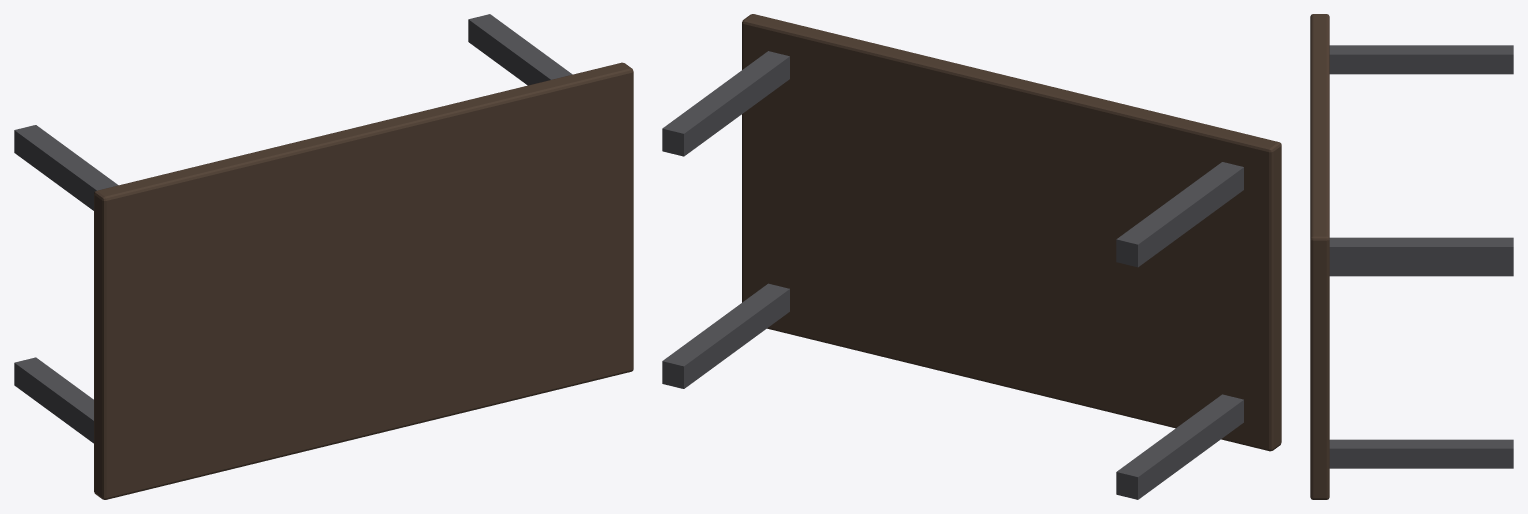
File: lounge_coffee_table.glb
3 renders of one model, left to right at view 1: azimuth 30°, elevation 25°; view 2: azimuth 150°, elevation 25°; view 3: azimuth 270°, elevation 25°, orthographic. The views are drawn at different scales.
Visible parts, largest first — view 1: lounge_table_top, lounge_table_leg.001, lounge_table_leg.003, lounge_table_leg; view 2: lounge_table_top, lounge_table_leg.003, lounge_table_leg.001, lounge_table_leg.002, lounge_table_leg; view 3: lounge_table_top, lounge_table_leg.001, lounge_table_leg.002, lounge_table_leg.003, lounge_table_leg.
Boxes of the visible parts, bbox=[...] form: lounge_table_top: bbox=[94, 62, 633, 499]; lounge_table_leg.001: bbox=[14, 125, 118, 210]; lounge_table_leg.003: bbox=[468, 14, 572, 85]; lounge_table_leg: bbox=[14, 357, 93, 443]; lounge_table_top: bbox=[742, 14, 1281, 451]; lounge_table_leg.003: bbox=[662, 51, 789, 156]; lounge_table_leg.001: bbox=[1116, 162, 1243, 267]; lounge_table_leg.002: bbox=[662, 283, 789, 388]; lounge_table_leg: bbox=[1116, 394, 1243, 499]; lounge_table_top: bbox=[1310, 14, 1329, 499]; lounge_table_leg.001: bbox=[1329, 45, 1513, 74]; lounge_table_leg.002: bbox=[1329, 439, 1513, 468]; lounge_table_leg.003: bbox=[1329, 237, 1513, 266]; lounge_table_leg: bbox=[1329, 266, 1513, 276].
Size of the model in its own units: 1.1 by 0.6 by 0.42.
